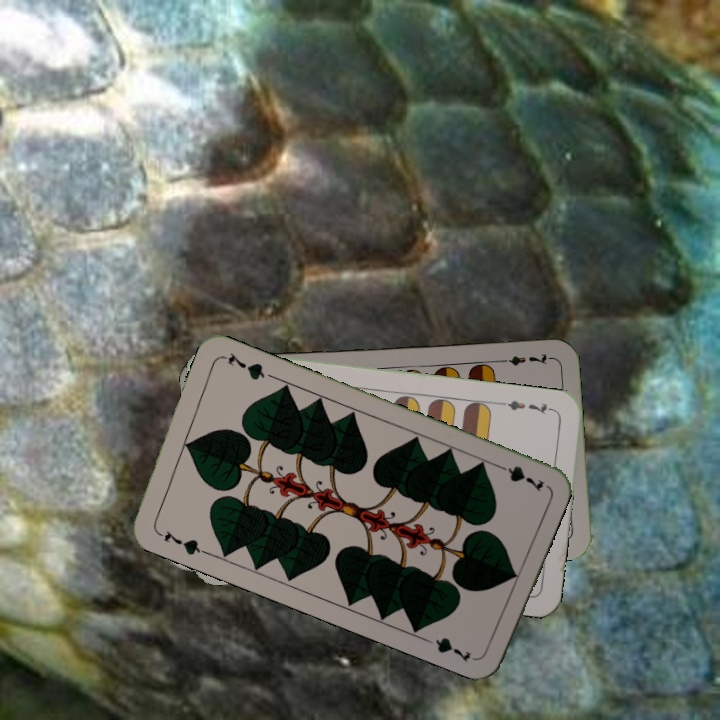E7: (499, 396, 558, 417), (494, 349, 553, 368)
G7: (490, 459, 547, 495), (152, 526, 208, 558)
